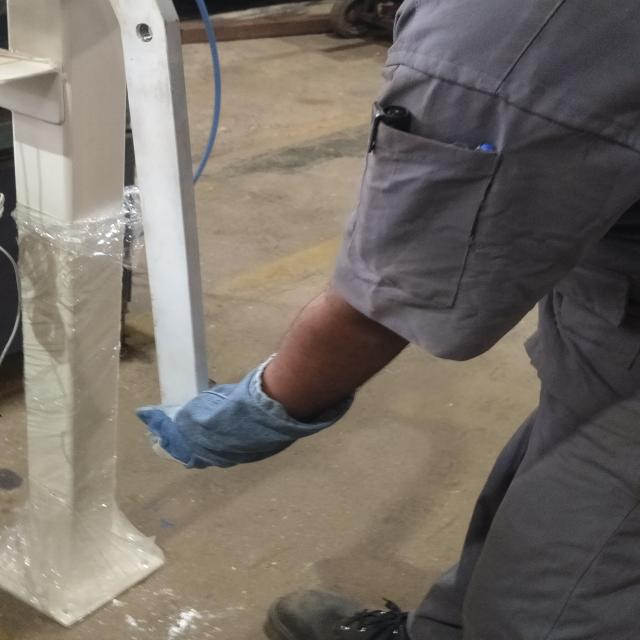Gloves-Detection: (134, 360, 366, 488)
